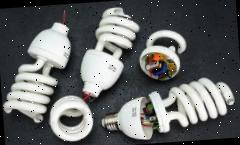lightbulb: (98, 75, 237, 143), (0, 8, 75, 125), (76, 5, 144, 100), (138, 28, 188, 82), (47, 94, 94, 144)
